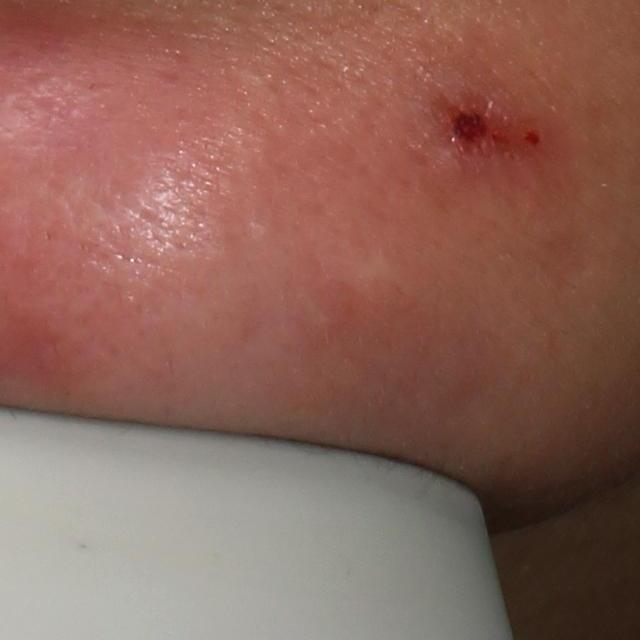papule: (424, 75, 537, 176)
